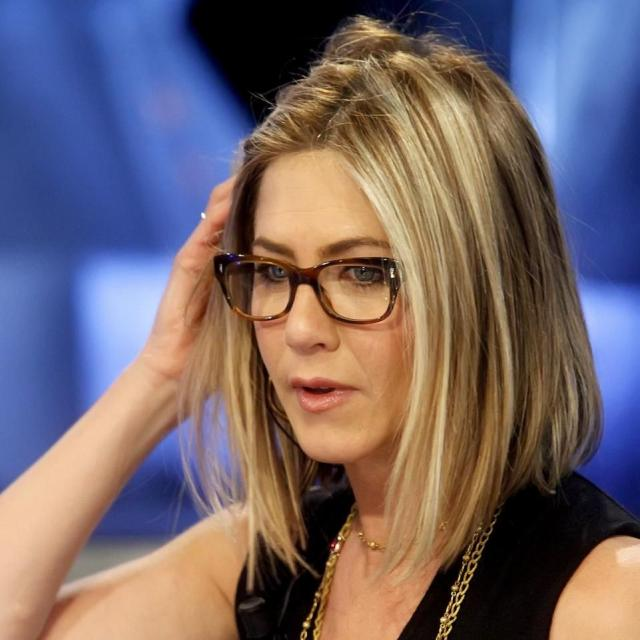Glasses: (211, 246, 411, 330)
